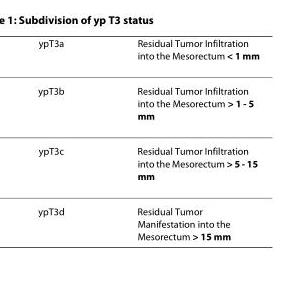table: (37, 36, 258, 241)
table column: (100, 36, 258, 241), (37, 36, 100, 241)
table column header: (37, 36, 258, 72)
table row: (37, 132, 258, 193), (37, 72, 258, 132), (37, 193, 258, 241), (37, 36, 258, 72)
